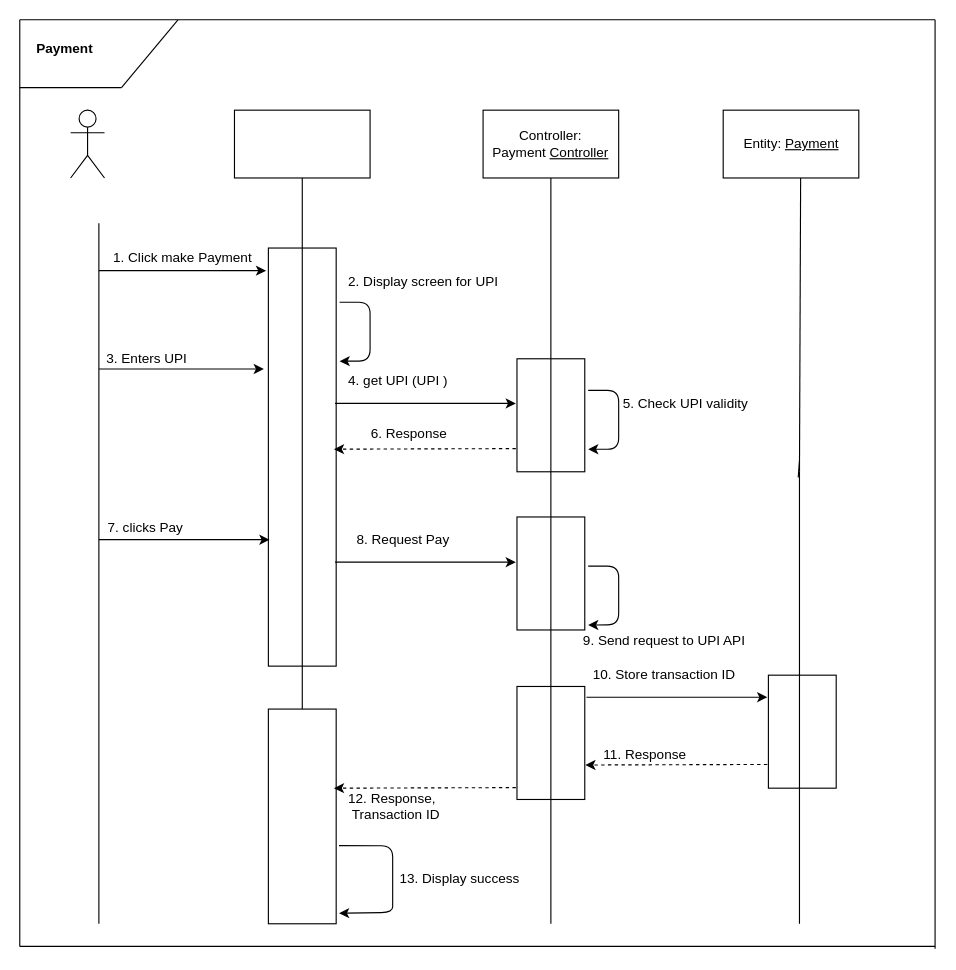
Some shapes in this 956 by 970 pixel diagram are drawn without their labels. Here are the shapes that lost their labels. From the top down, the box of each, then its label:
(69, 109, 105, 178): Customer
(233, 109, 370, 178): Interface: Payment Interface
